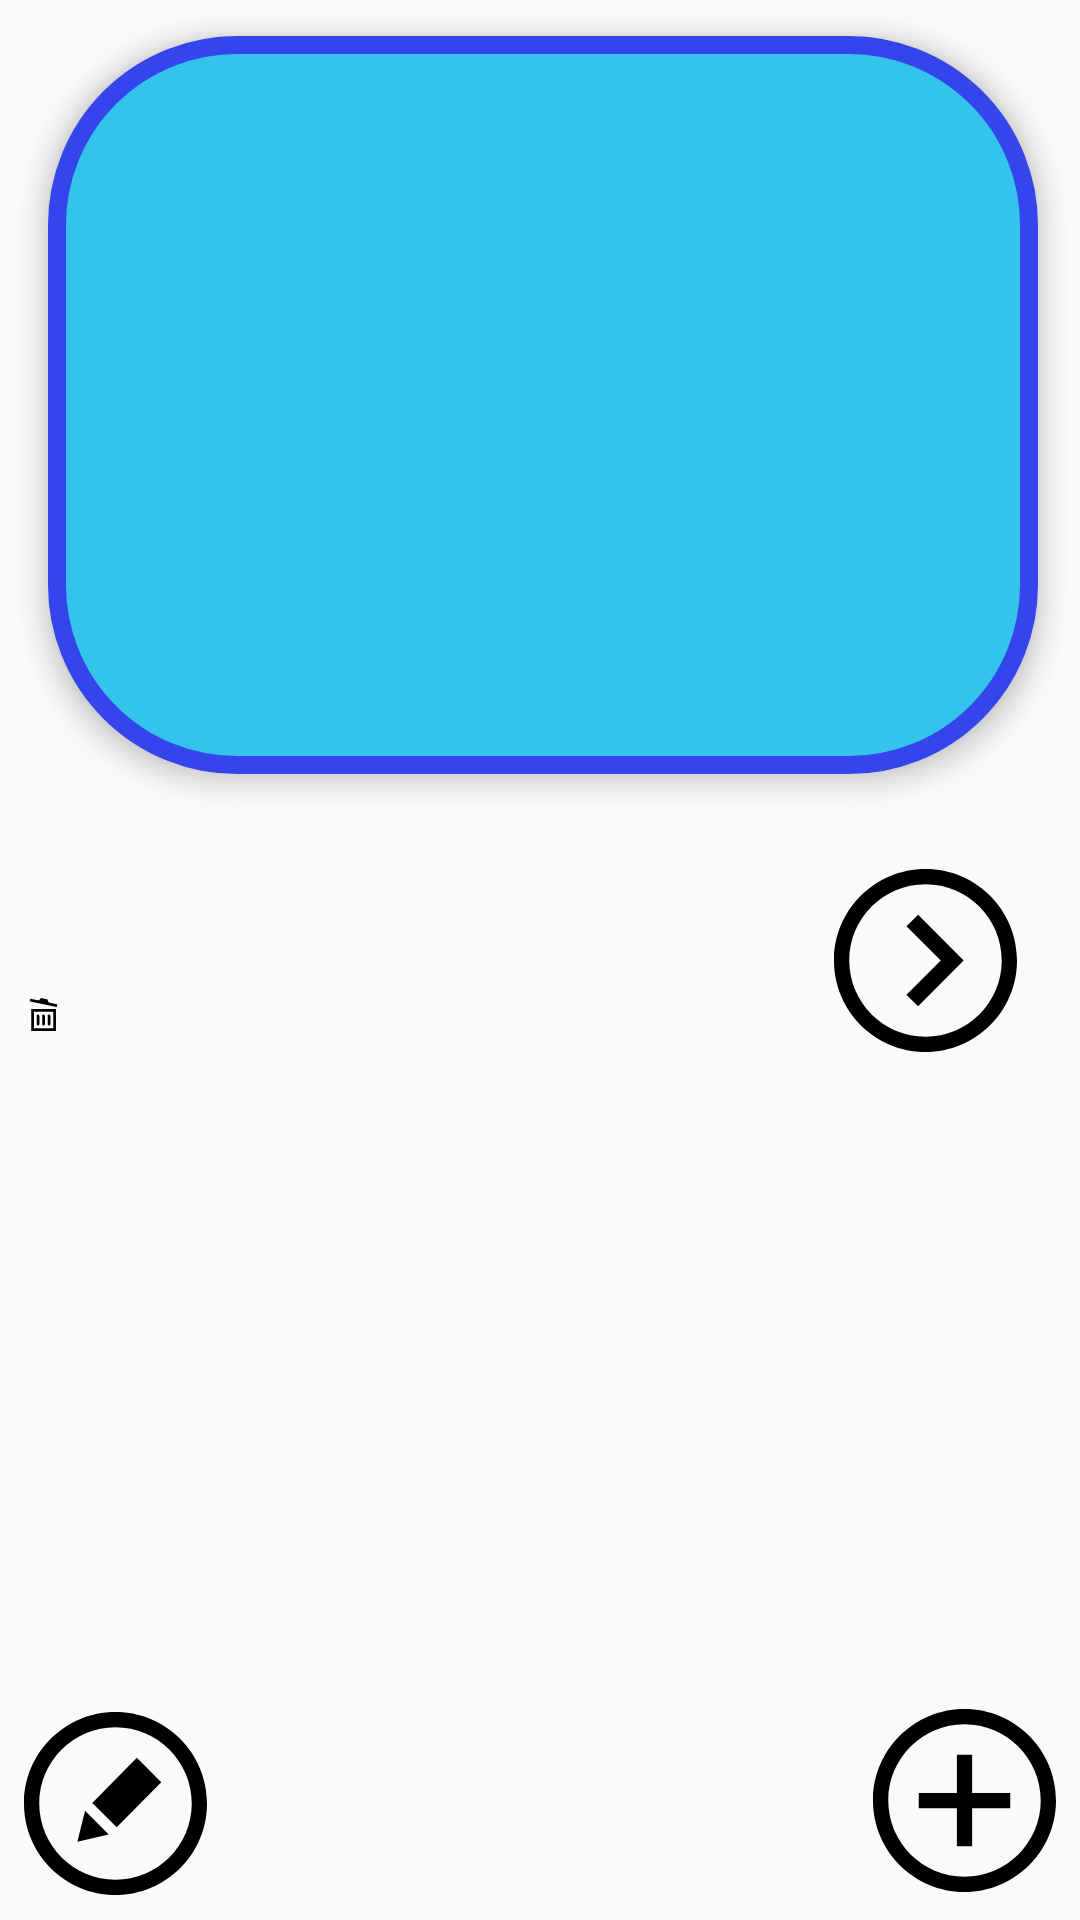

Point at icon controls on the screen. Image size 1080px×1920px, points as [x,y].
add: [964,1800]
edit: [115,1803]
next: [925,960]
trash: [43,1014]
